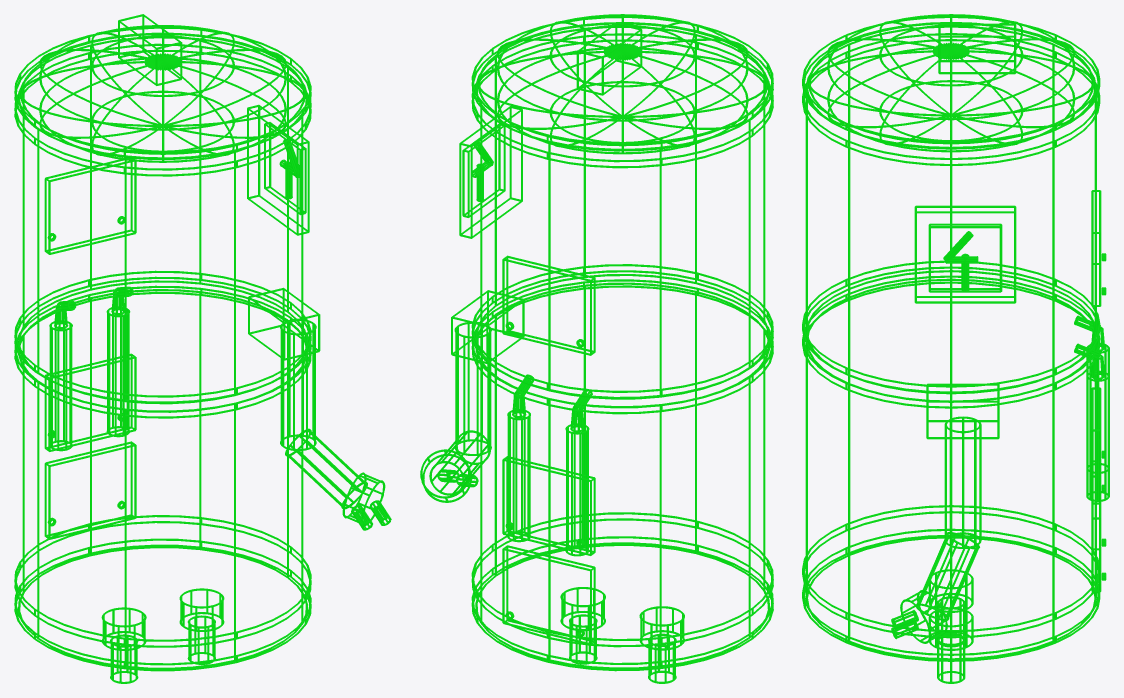
File: hi-energy-power-stores-wireframe.glb
3 views of the same model, side by side, from view 1: azimuth 30°, elevation 25°; view 2: azimuth 150°, elevation 25°; view 3: azimuth 270°, elevation 25° (orthographic).
Parts seen in each view (by area): view 1: chassis technical wire, probe-input-arms technical wire, cooling-cylinders technical wire, power-terminals technical wire; view 2: chassis technical wire, cooling-cylinders technical wire, probe-input-arms technical wire, power-terminals technical wire; view 3: chassis technical wire, probe-input-arms technical wire, cooling-cylinders technical wire, power-terminals technical wire.
Boxes of the visible parts, x1,y1,x2,y2 form: chassis technical wire: [14, 14, 311, 671]; probe-input-arms technical wire: [248, 287, 391, 530]; cooling-cylinders technical wire: [49, 286, 133, 451]; power-terminals technical wire: [101, 588, 224, 683]; chassis technical wire: [459, 14, 773, 671]; cooling-cylinders technical wire: [507, 374, 592, 556]; probe-input-arms technical wire: [420, 290, 524, 502]; power-terminals technical wire: [560, 587, 684, 683]; chassis technical wire: [802, 14, 1106, 661]; probe-input-arms technical wire: [891, 383, 999, 643]; cooling-cylinders technical wire: [1074, 315, 1109, 501]; power-terminals technical wire: [928, 569, 973, 683].
Size of the model in its own units: 1.66 by 2.94 by 1.3.
